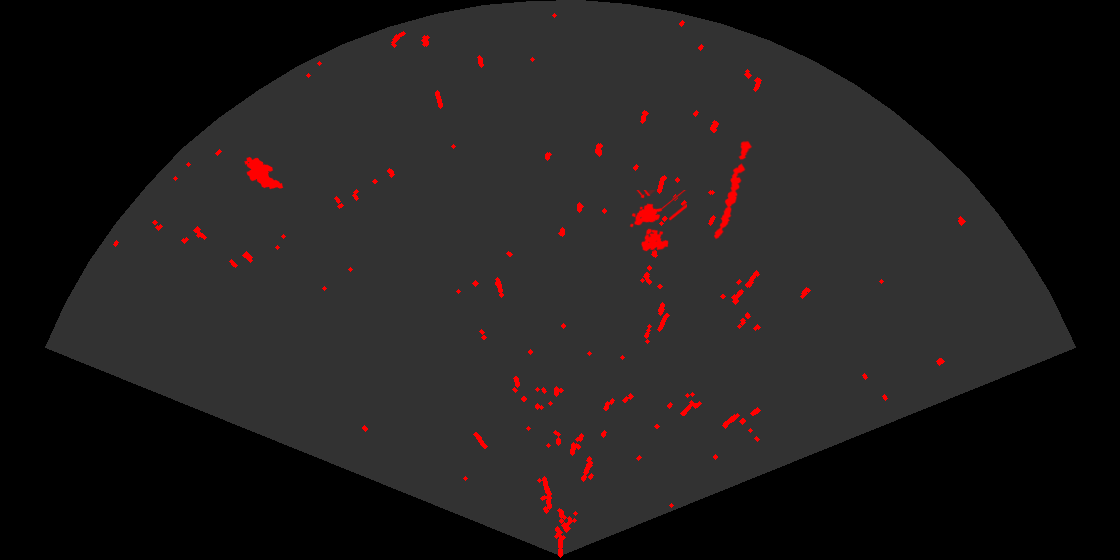AUV: (243, 155, 285, 191)
cage: (628, 190, 687, 253)
chain: (712, 138, 754, 241)
